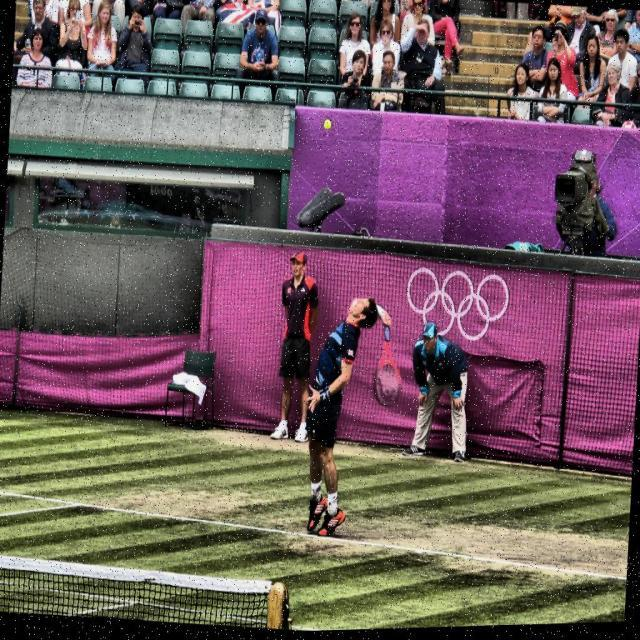tennis-ball: (320, 118, 334, 140)
